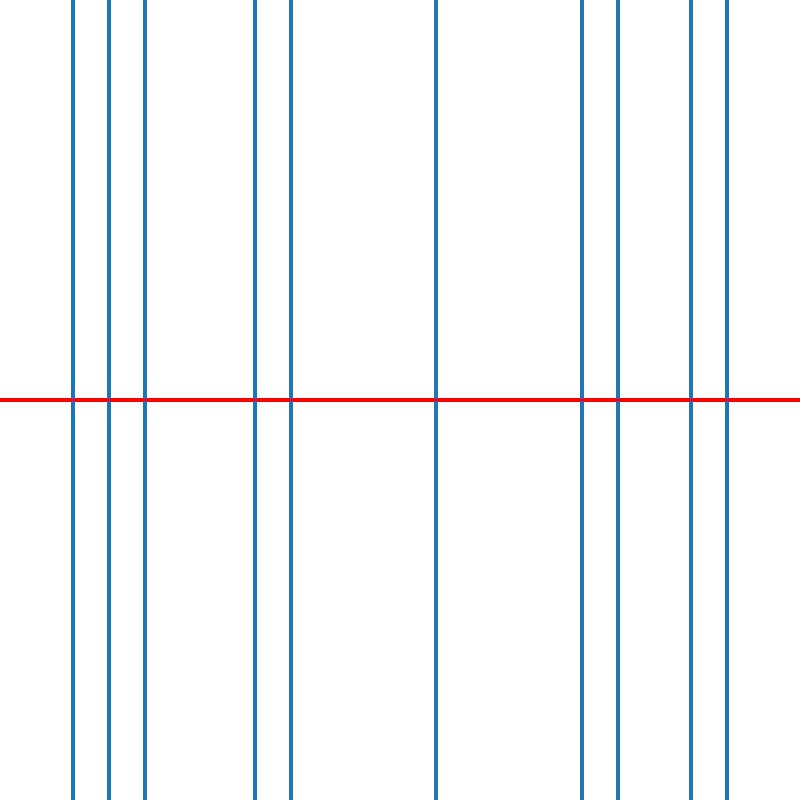root: (141, 396, 149, 404), (250, 396, 258, 404), (432, 396, 440, 404), (69, 396, 76, 404), (287, 396, 294, 404), (578, 396, 585, 404), (687, 396, 694, 404), (105, 396, 112, 404), (614, 396, 621, 404), (723, 396, 730, 404)
